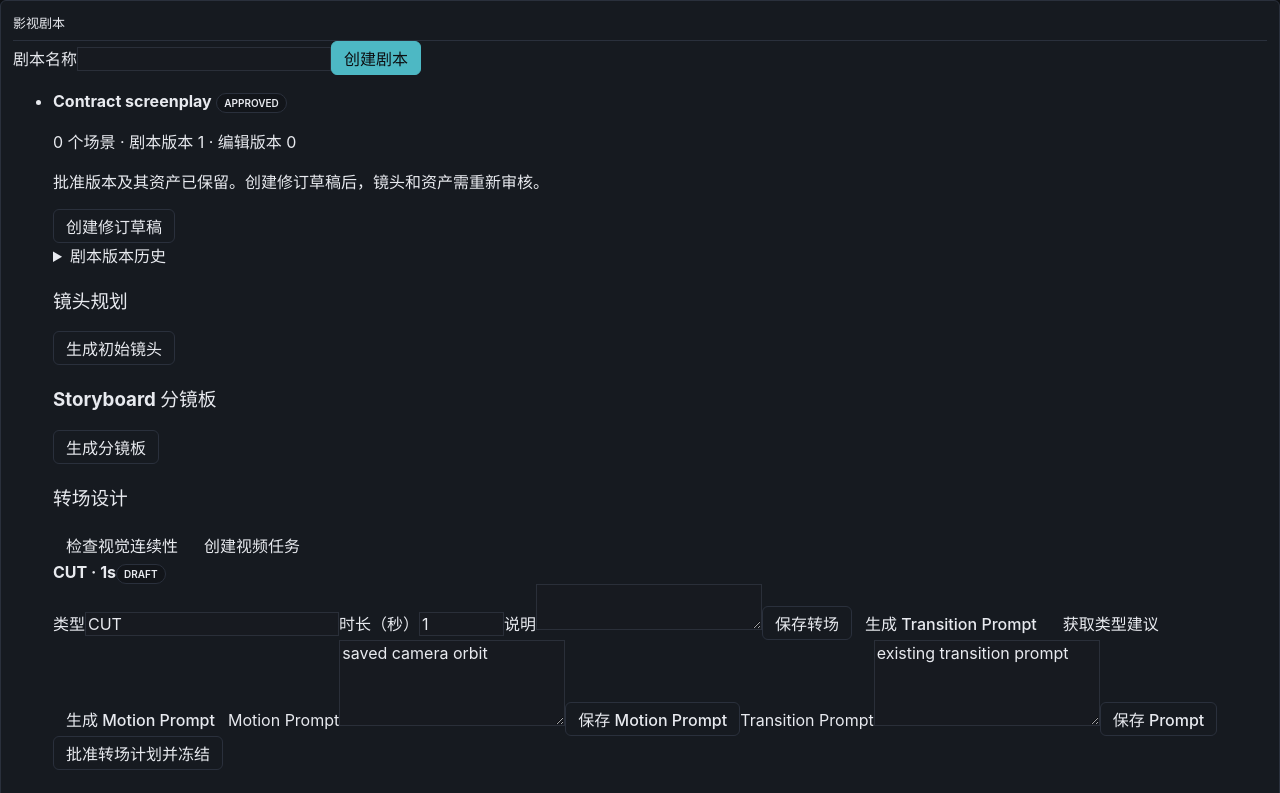
Scenario: ScreenplayPanel Motion Prompt contract › reports save rejection without false success and clears the error after a successful retry
Step 1. Click the button "保存 Motion Prompt" → (653,719), box [565,702,740,736]
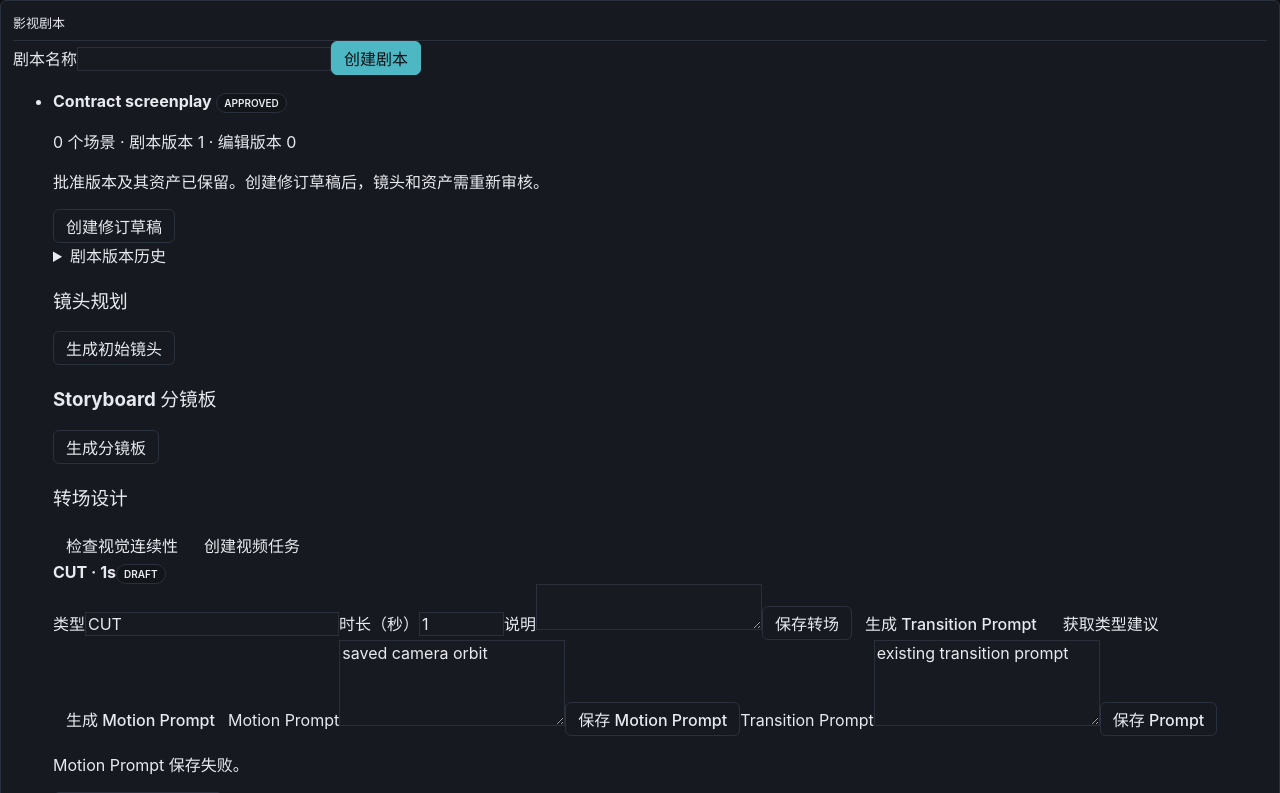
expect the text "Motion Prompt 保存失败。" is shown: met, box [53,755,249,775]
Step 2. Click the button "保存 Motion Prompt" → (653,719), box [565,702,740,736]
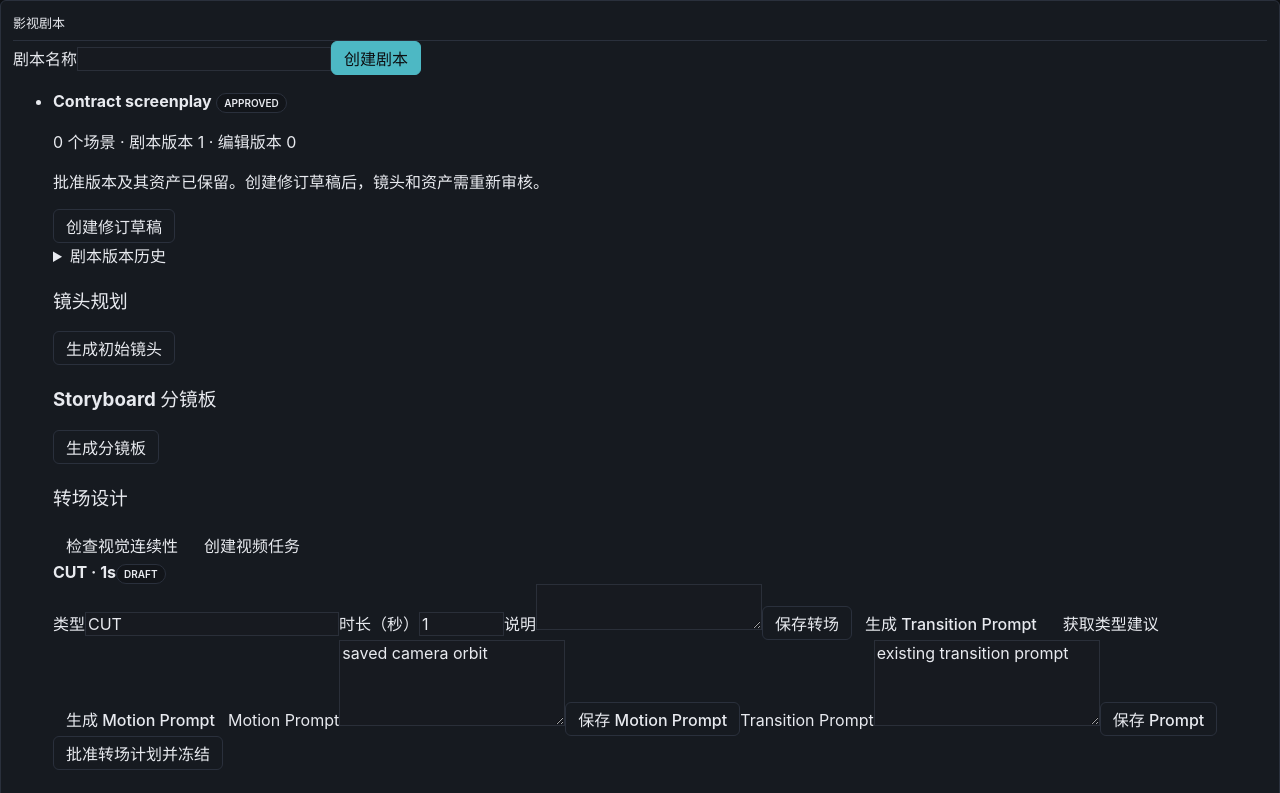
expect the text "Motion Prompt 保存失败。" is gone: met
